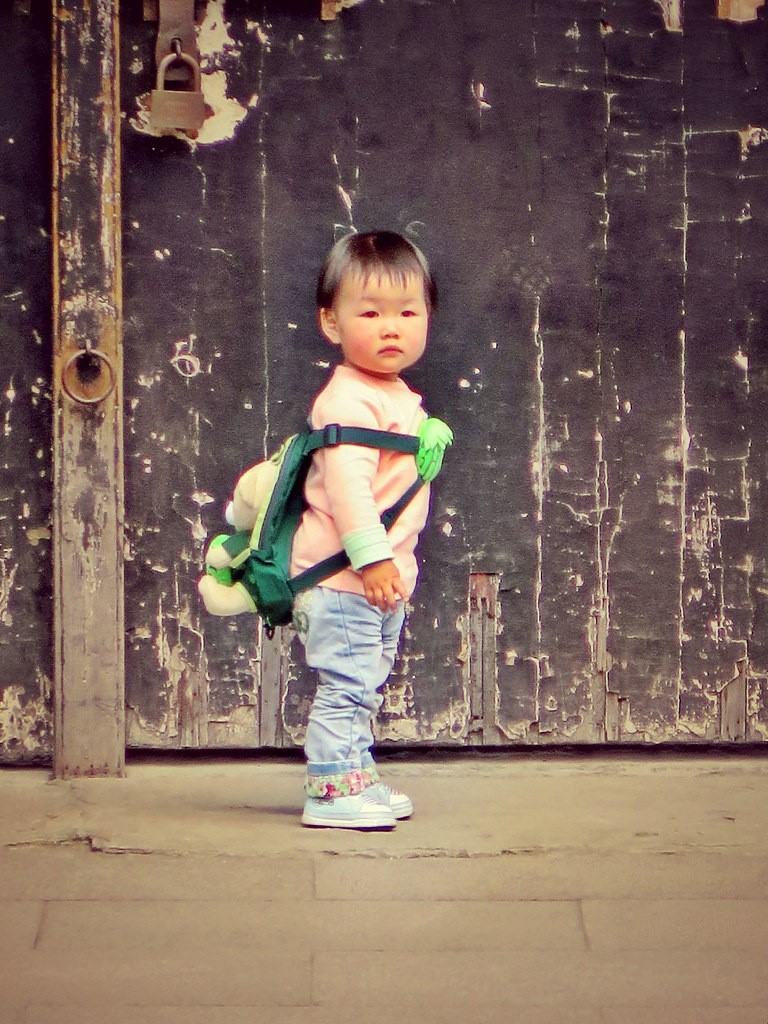face_no_mask: (317, 232, 430, 379)
